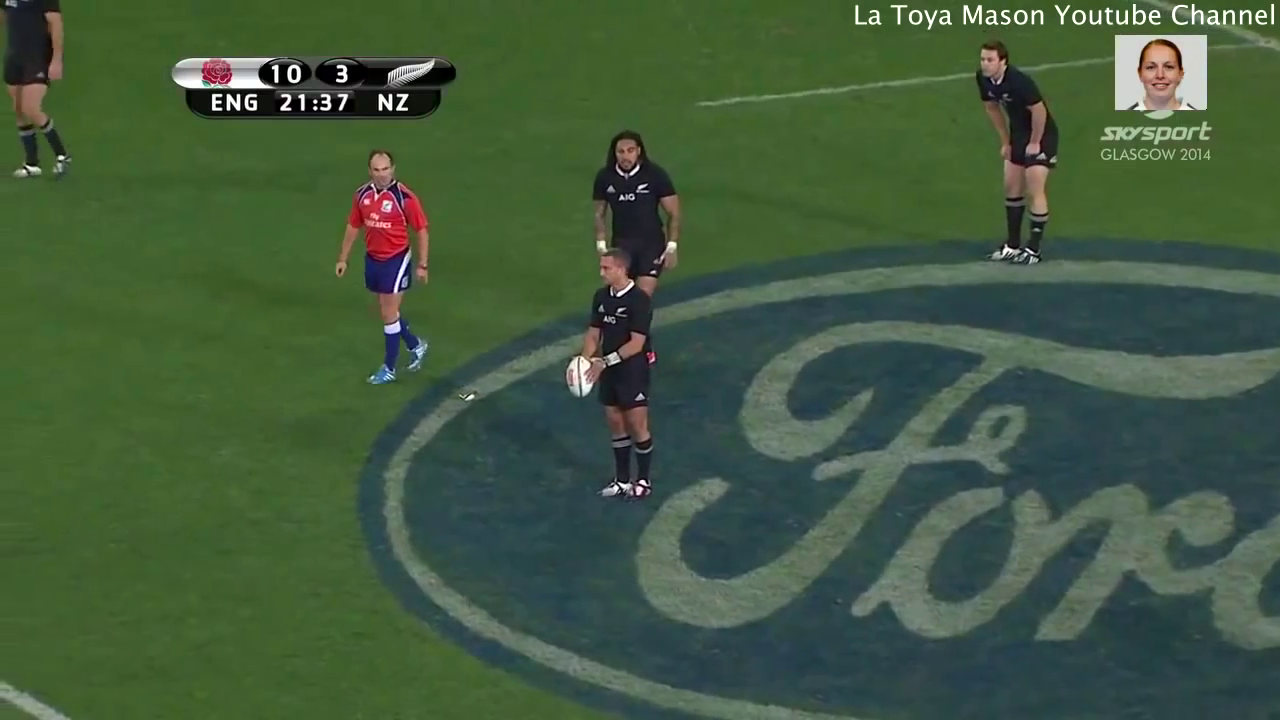player: (321, 141, 441, 400), (957, 35, 1065, 277), (565, 242, 663, 508), (577, 114, 687, 335), (1, 1, 90, 185)
